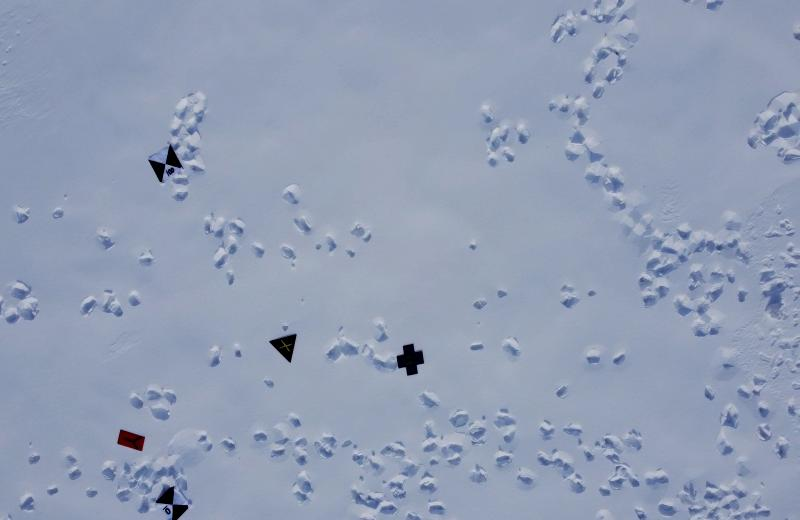Cross: (394, 343, 426, 379)
Rectangle: (115, 426, 147, 456)
Triangle: (266, 332, 299, 364)
